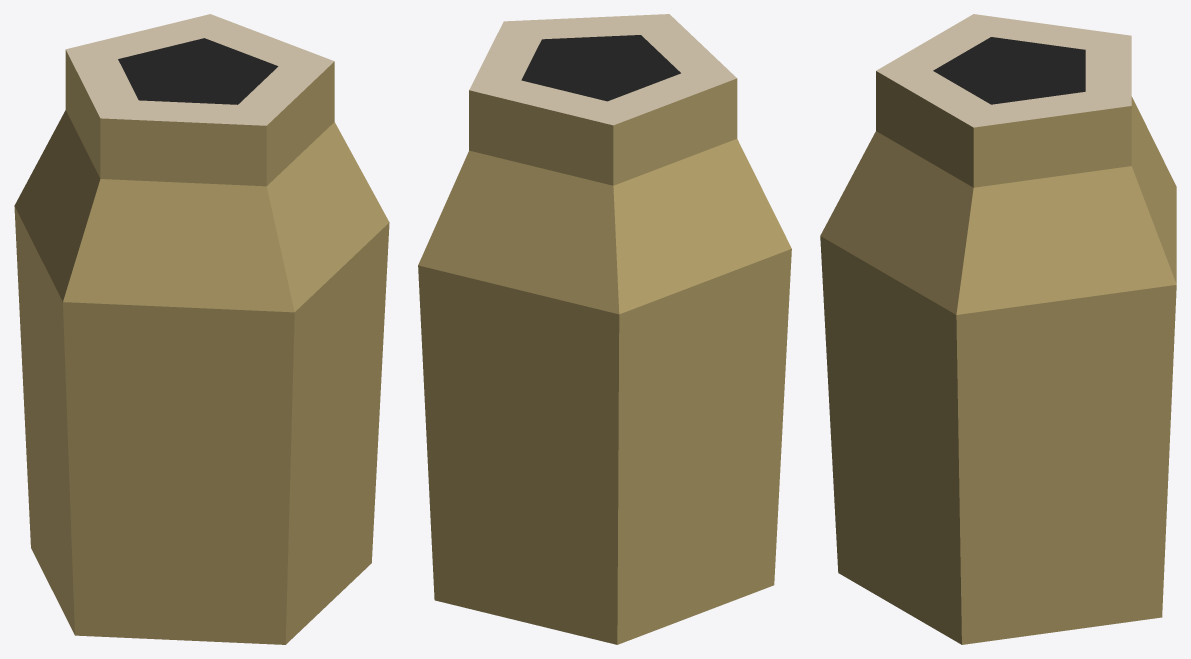
The model's file is TB_D_Prop_Jar_C.FBX.
3 views of the same model, side by side, from view 1: azimuth 30°, elevation 25°; view 2: azimuth 150°, elevation 25°; view 3: azimuth 270°, elevation 25° (orthographic).
Visible parts, largest first — view 1: TB_D_Prop_Jar_C; view 2: TB_D_Prop_Jar_C; view 3: TB_D_Prop_Jar_C.
Part boxes in pixels (x1=…): TB_D_Prop_Jar_C: x1=14, y1=14, x2=389, y2=644; TB_D_Prop_Jar_C: x1=418, y1=14, x2=791, y2=644; TB_D_Prop_Jar_C: x1=820, y1=14, x2=1176, y2=644.
Bounding box in the file's own units: 0.6492 × 0.9598 × 0.6175.
